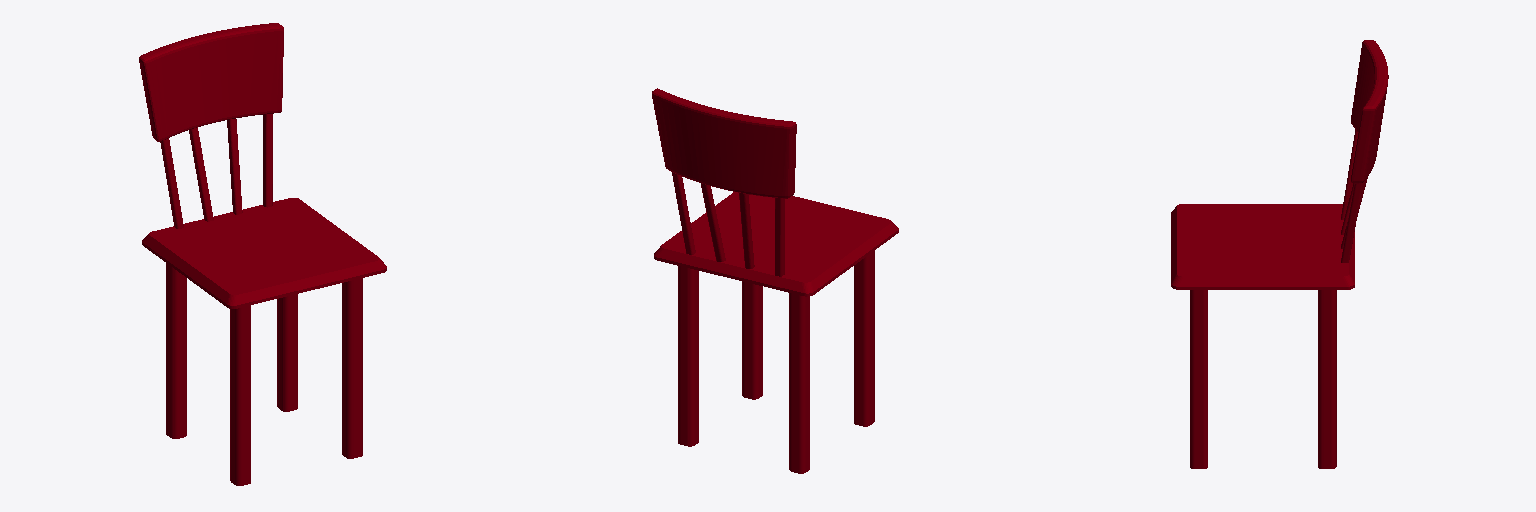
The model's file is chair06.obj.
3 renders of one model, left to right at view 1: azimuth 30°, elevation 25°; view 2: azimuth 150°, elevation 25°; view 3: azimuth 270°, elevation 25°, orthographic.
Parts seen in each view (by area): view 1: Object.1; view 2: Object.1; view 3: Object.1.
Part boxes in pixels (x1,y1,x2,y2): Object.1: (139, 23, 386, 485); Object.1: (652, 88, 898, 473); Object.1: (1171, 40, 1388, 468).
Size of the model in its own units: 451 by 990 by 534.